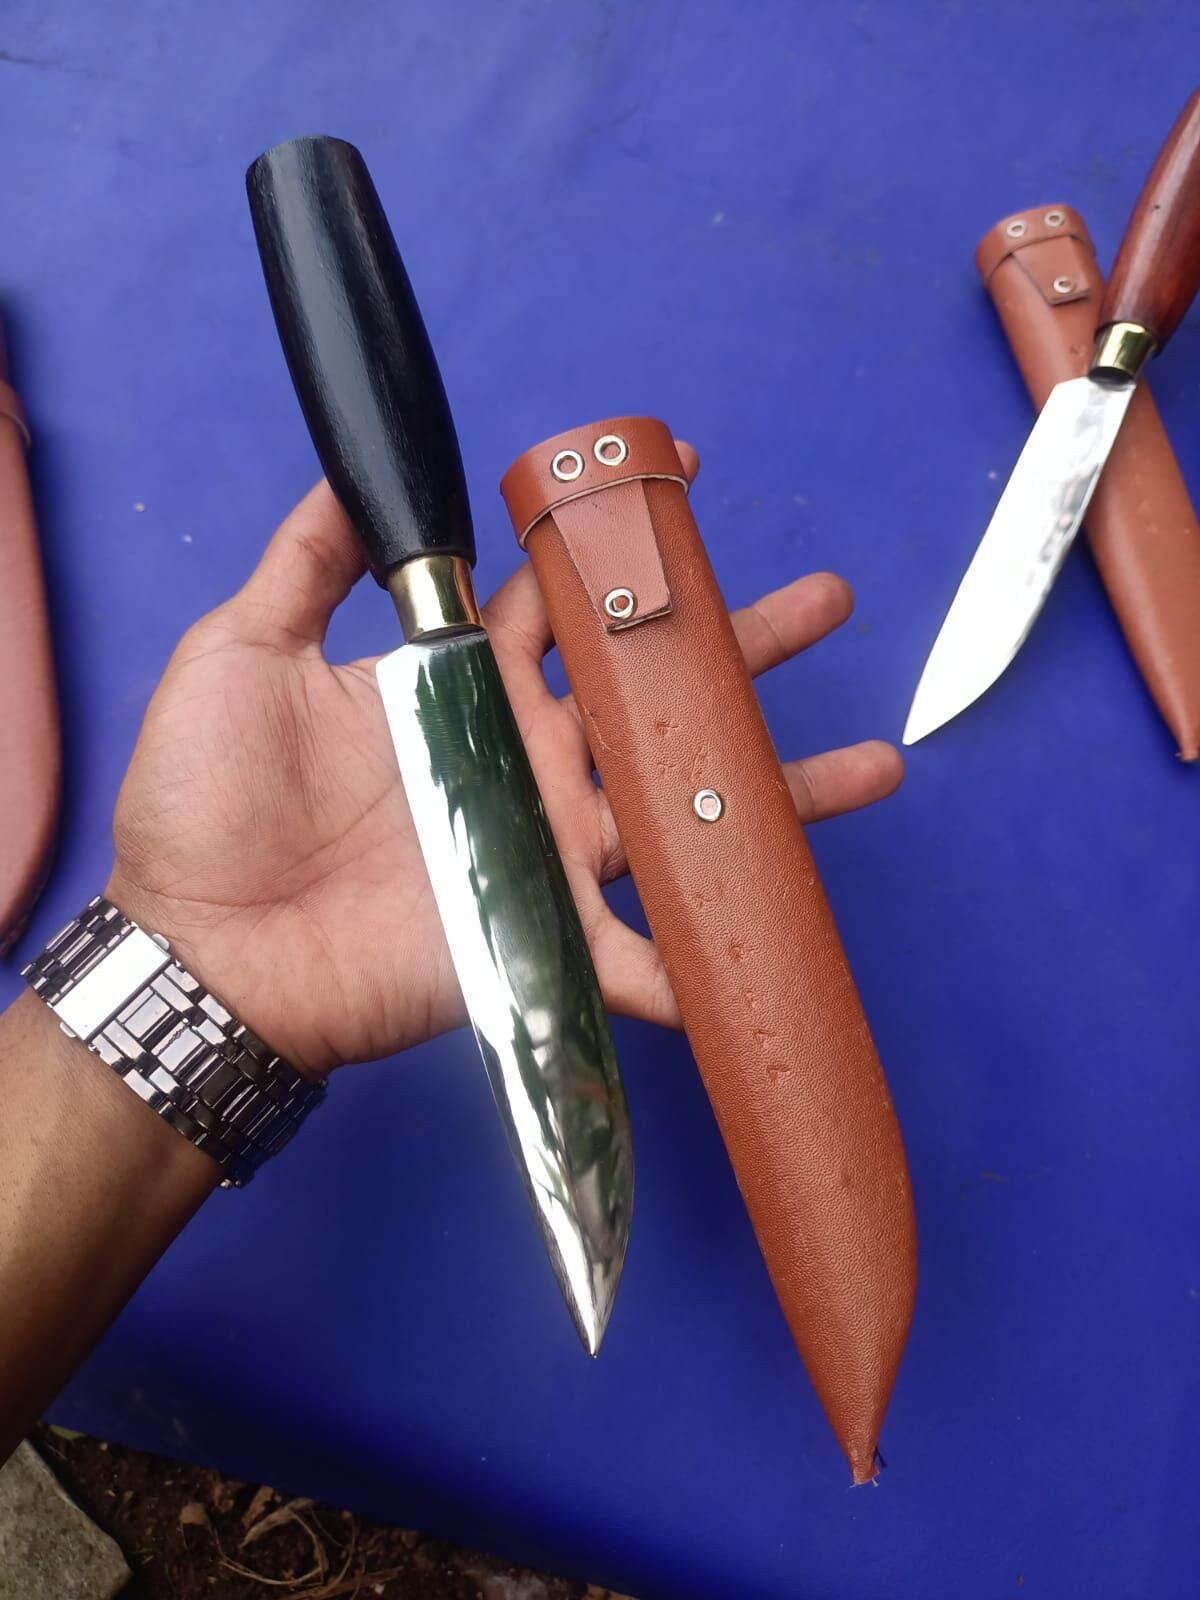faca: (247, 139, 633, 1353), (903, 94, 1199, 745)
